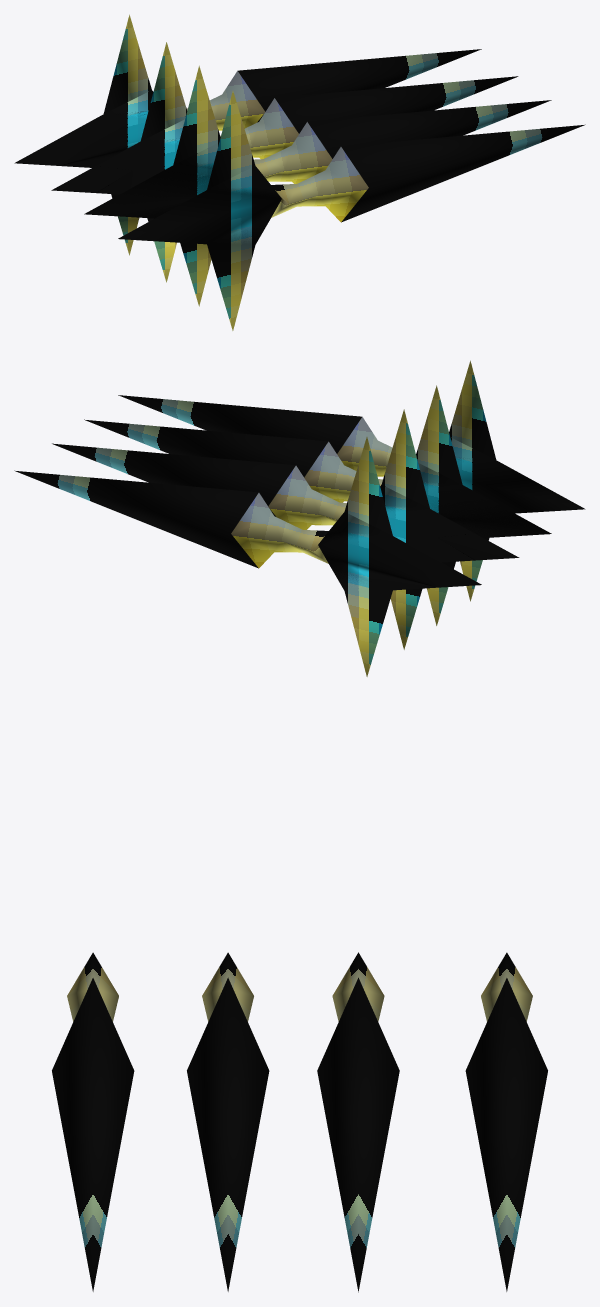
File: foudre.obj
The picture shows the model from 3 angles, top to bottom: view 1: azimuth 30°, elevation 25°; view 2: azimuth 150°, elevation 25°; view 3: azimuth 270°, elevation 25°; orthographic projection. The views are drawn at different scales.
Visible parts, largest first — view 1: mesh; view 2: mesh; view 3: mesh.
Boxes of the visible parts, x1,y1,x2,y2 form: mesh: [14, 14, 585, 330]; mesh: [14, 360, 585, 676]; mesh: [52, 952, 547, 1292].
Size of the model in its own units: 18.97 by 9.35 by 8.7.
